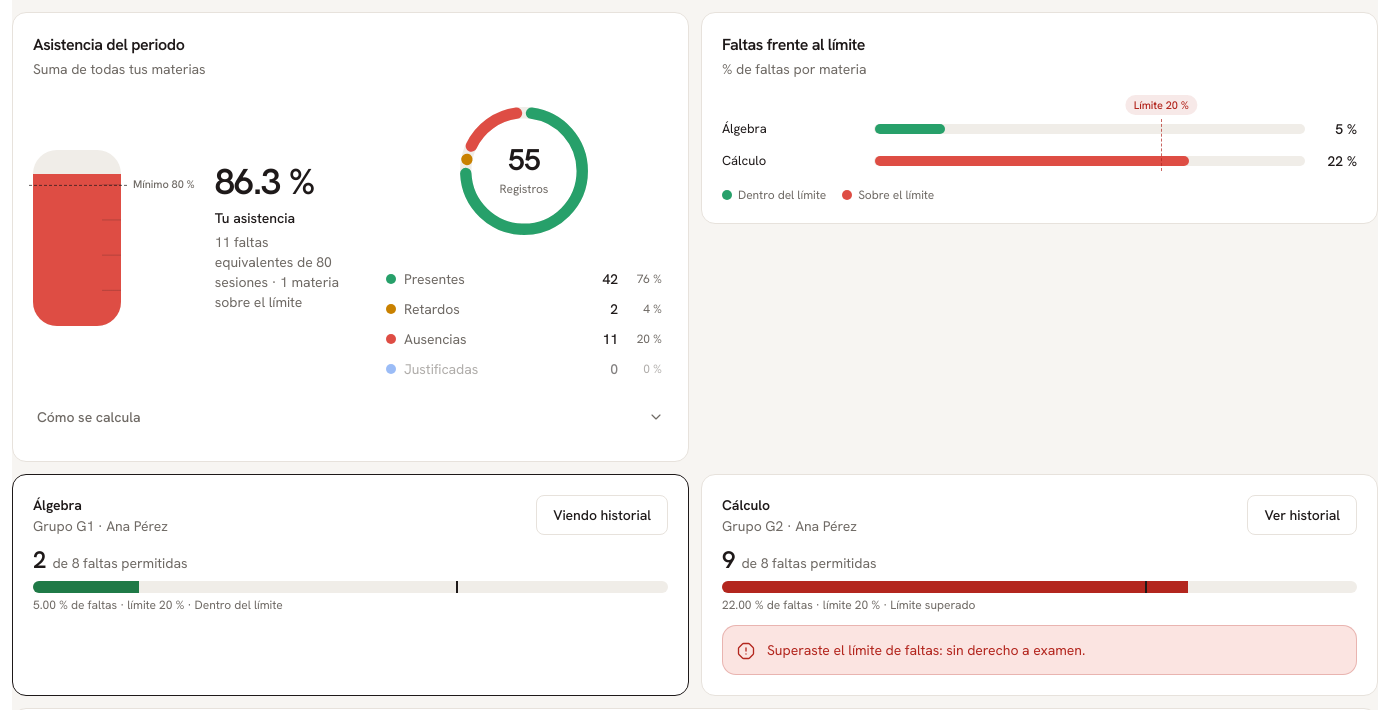
Test: PortalAlumno › vista de la materia: casillas, calendario con racha e historial › las casillas muestran las cifras de la materia elegida y cambian con ella
The width and height of the screenshot is (1390, 710).
// Cambiar de materia vuelve a pedir lista y calendario del otro grupo y cambia las casillas.
Click the button "Ver historial". click: (1302, 515)
box: [1248,495,1357,535]
(page scrolled)
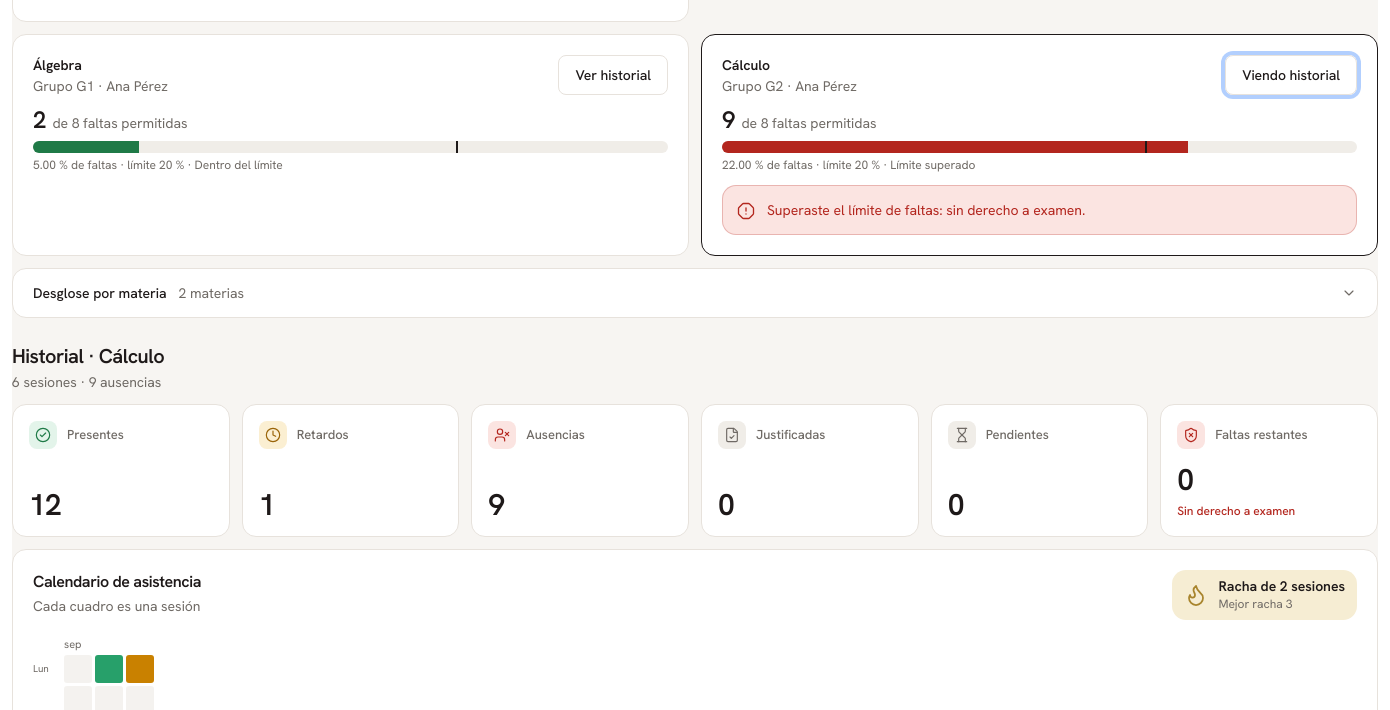
Check: the text "Sin derecho a examen" is shown, box [1177,503,1295,520]
Check: the heading "Historial · Cálculo" is shown, box [12,343,164,369]
